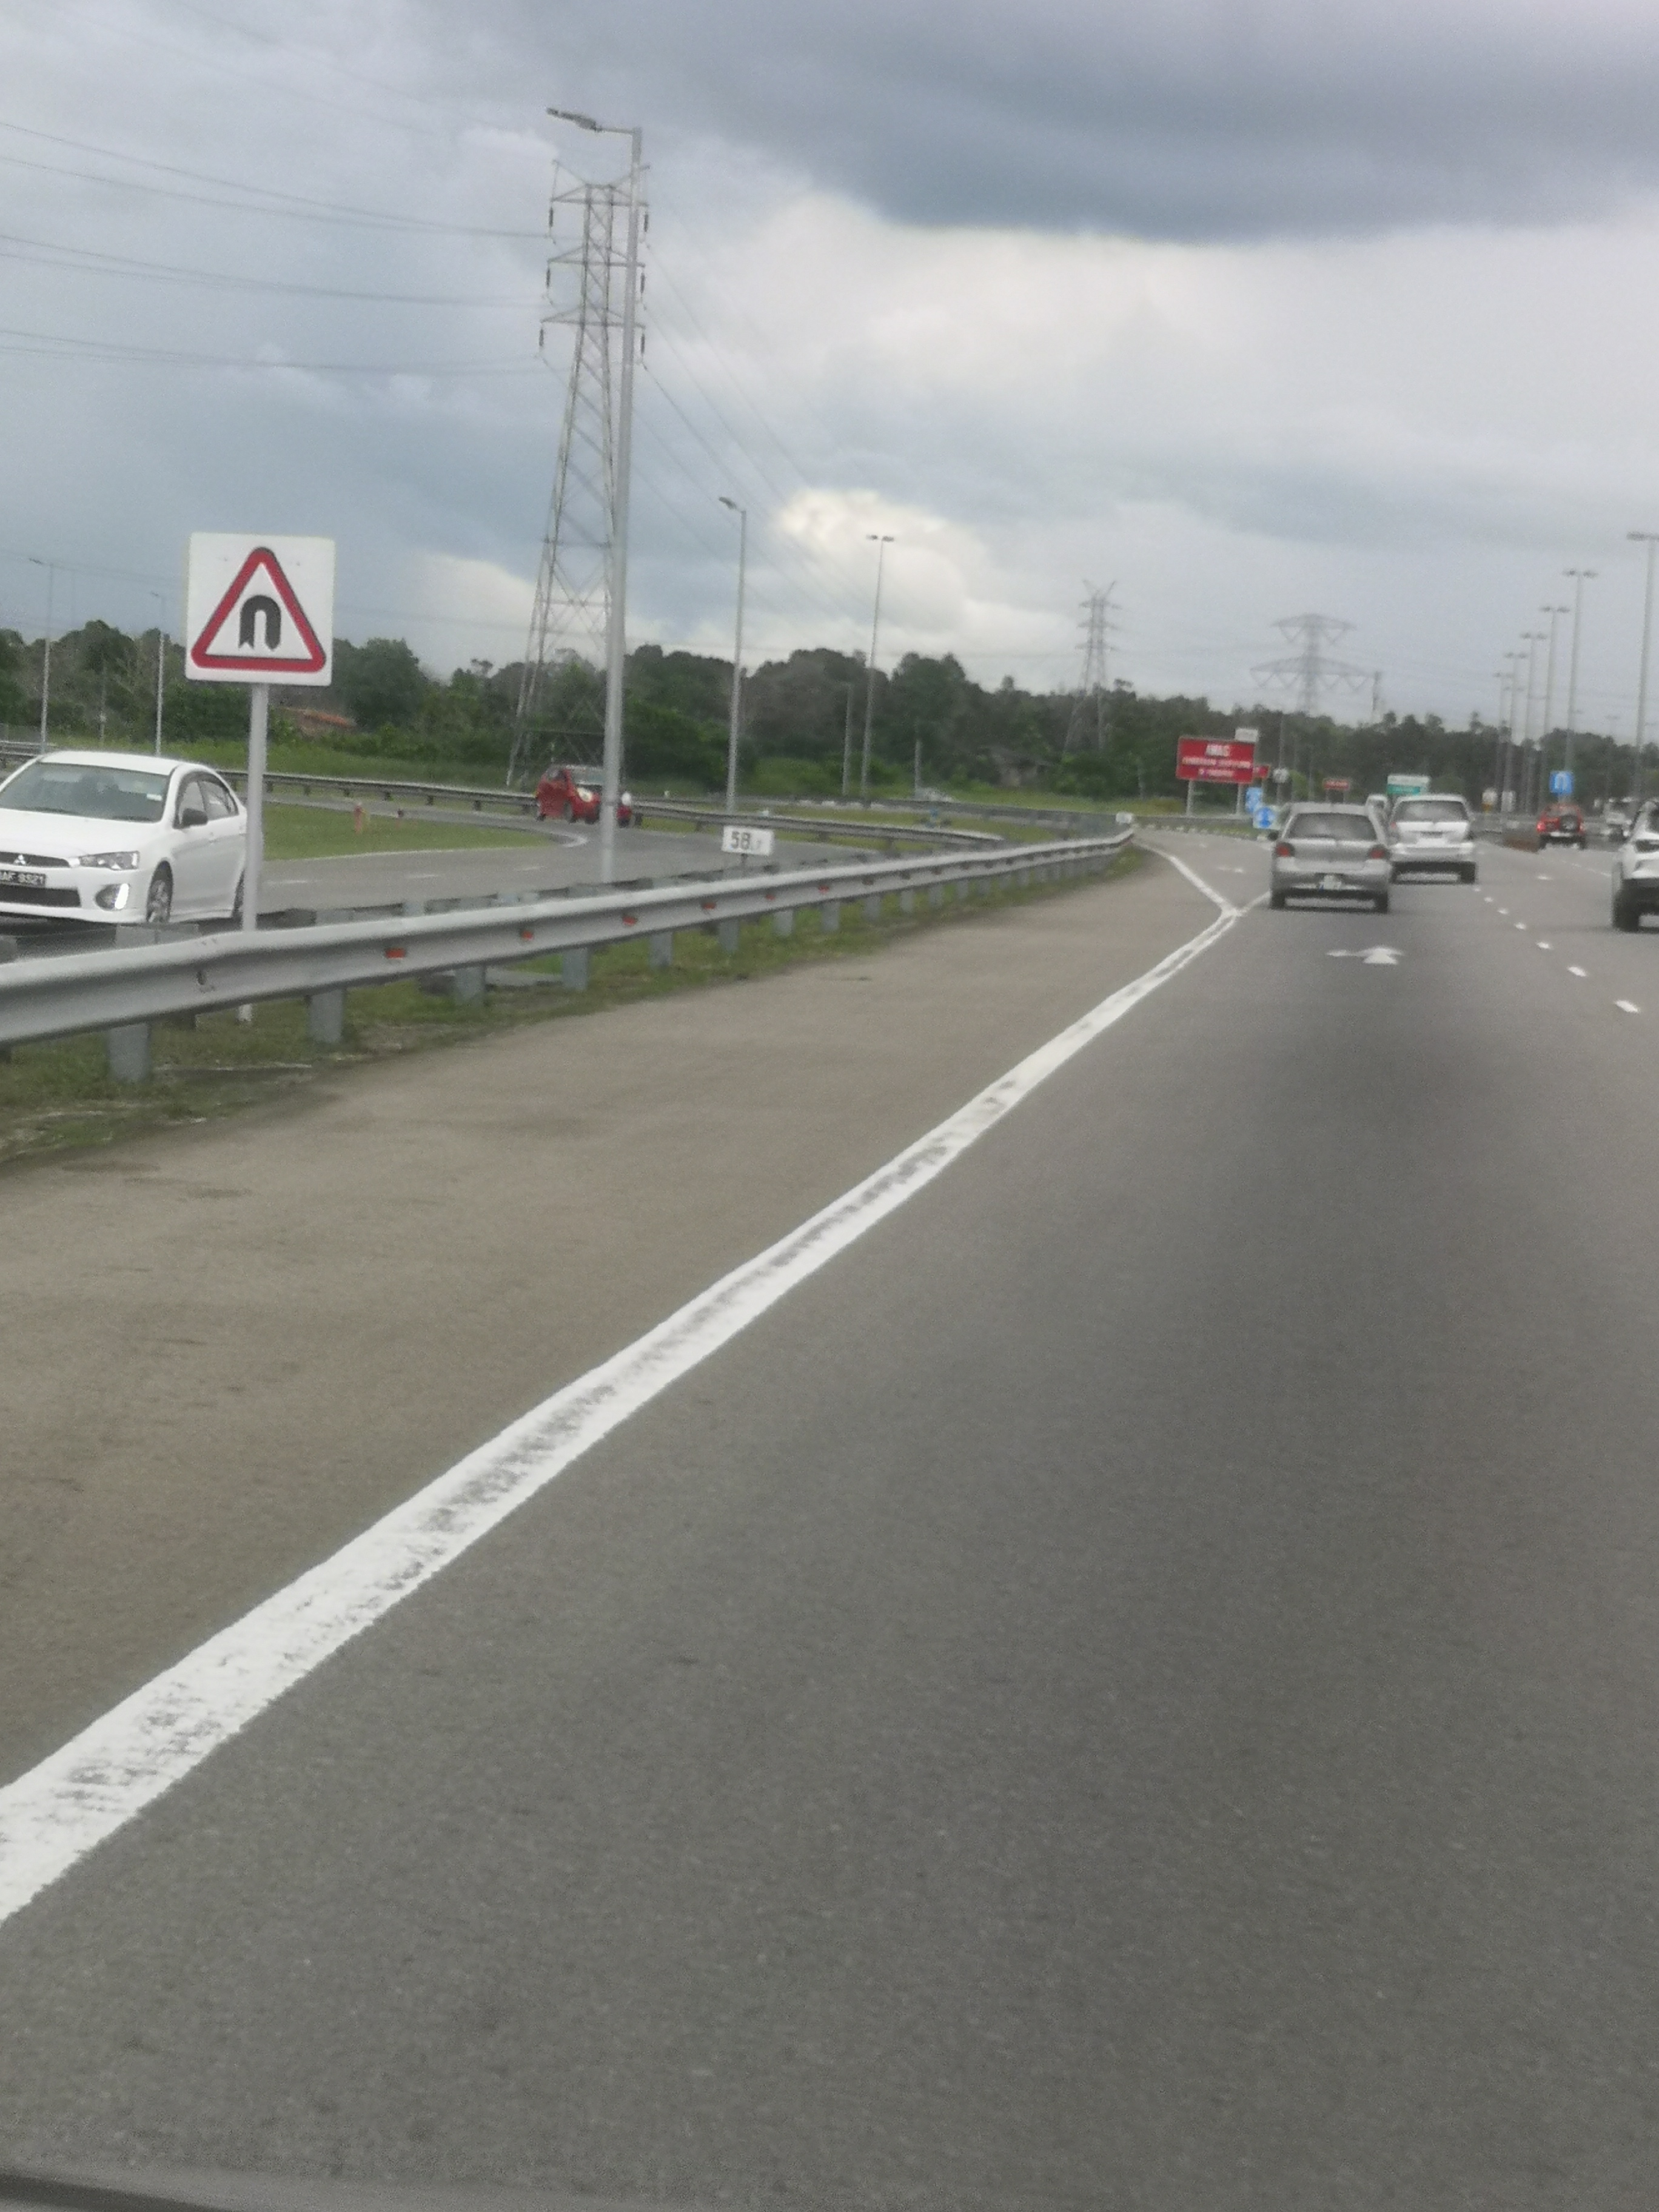U-turn: (181, 529, 343, 697)
